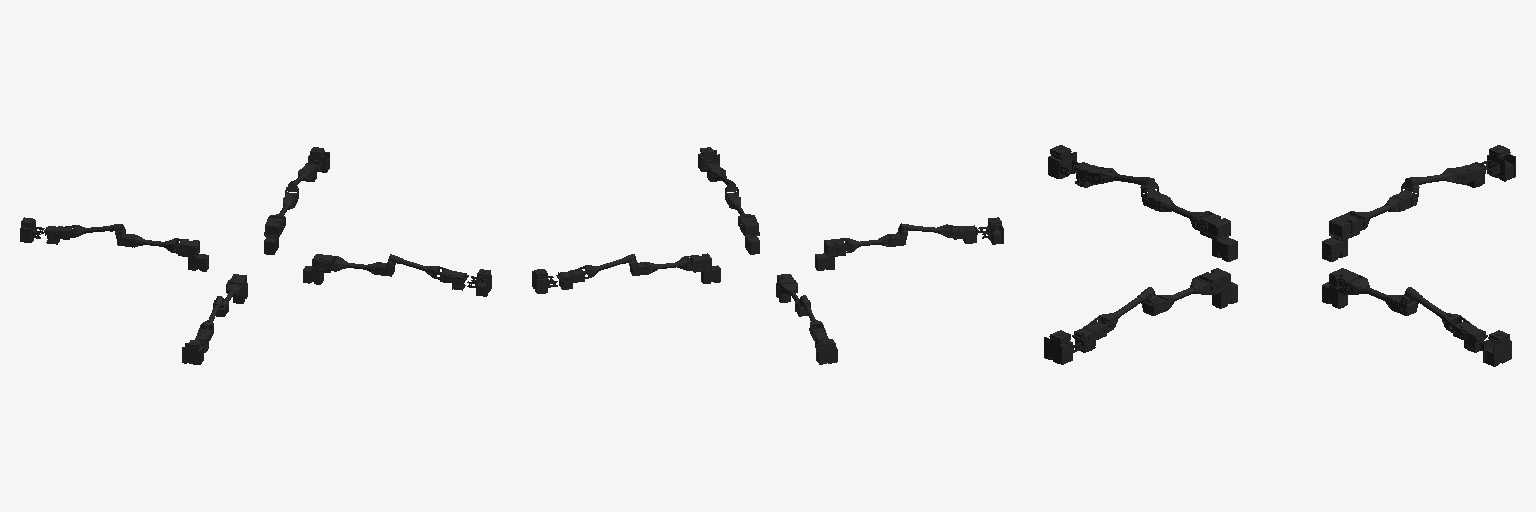
--- Render facts (derived) ---
The picture shows the robot from 3 angles, left to right: view 1: azimuth 30°, elevation 25°; view 2: azimuth 150°, elevation 25°; view 3: azimuth 270°, elevation 25°; orthographic projection.
Model LIMBERO with 37 links and 36 joints (24 revolute, 4 continuous, 8 fixed), rooted at base_link, posed every joint at zero.
Visible links, largest first — view 1: LH_femur, RF_femur, RF_tibia, LH_tibia; view 2: LF_femur, RH_femur, RH_tibia, LF_tibia; view 3: RF_femur, LF_femur, LF_driving_Link, RF_driving_Link, LH_driving_Link, LH_femur, RH_femur, LF_tibia, RF_tibia, LH_tibia, RH_tibia, RH_driving_Link (+2 smaller).
Link boxes in pixels (x1,y1,x2,y2): LH_femur: (117,233,182,253); RF_femur: (325,256,394,276); RF_tibia: (385,254,451,282); LH_tibia: (57,224,125,242); LF_femur: (630,256,699,275); RH_femur: (841,233,905,253); RH_tibia: (897,223,965,242); LF_tibia: (573,254,638,281); RF_femur: (1143,275,1219,315); LF_femur: (1340,275,1416,315); LF_driving_Link: (1479,330,1511,366); RF_driving_Link: (1044,330,1080,364); LH_driving_Link: (1480,145,1515,181); LH_femur: (1346,190,1416,232); RH_femur: (1143,190,1213,232); LF_tibia: (1400,287,1471,338); RF_tibia: (1088,287,1159,338); LH_tibia: (1400,167,1475,202); RH_tibia: (1084,167,1159,202); RH_driving_Link: (1048,145,1079,178).
Size in the robot's own frame: 1.11 by 1.11 by 0.1264 metres.
32 mesh visuals loaded from 10 distinct referenced files (8 binary STL); not drawn: 5 (reference not matched to a file when rendering).

The robot description file, URDF, robot "LIMBERO":
<?xml version="1.0" ?>
<!-- =================================================================================== -->
<!-- |    This document was autogenerated by xacro from LIMBERO.xacro                  | -->
<!-- |    EDITING THIS FILE BY HAND IS NOT RECOMMENDED                                 | -->
<!-- =================================================================================== -->
<robot name="LIMBERO">
  <gazebo>
    <!-- ros_control plugin -->
    <plugin filename="libgazebo_ros2_control.so" name="gazebo_ros2_control">
      <parameters>[local-path]/lbr_ws/install/lbr_description/share/lbr_description/config/lbr_controller_with_grieel.yaml</parameters>
    </plugin>
  </gazebo>
  <link name="base_link">
    <inertial>
      <origin rpy="0 0 0" xyz="0 0 -0.0030083"/>
      <mass value="3.1152"/>
      <inertia ixx="0.0036482" ixy="7.8081E-07" ixz="1.7521E-06" iyy="0.0062179" iyz="-1.4424E-06" izz="0.0034682"/>
    </inertial>
    <visual>
      <origin rpy="0 0 0" xyz="0 0 0"/>
      <geometry>
        <mesh filename="meshes/base.STL" scale="1.0 1.0 1.0"/>
      </geometry>
      <material name="">
        <color rgba="0.2 0.2 0.2 1"/>
      </material>
    </visual>
    <collision>
      <origin rpy="0 0 0" xyz="0 0 0"/>
      <geometry>
        <mesh filename="meshes/base.STL" scale="1.0 1.0 1.0"/>
      </geometry>
    </collision>
  </link>
  <gazebo reference="base_link">
    <material>Gazebo/Black</material>
    <visual>
      <material>
        <ambient>0.2 0.2 0.2 1</ambient>
        <diffuse>0.2 0.2 0.2 1</diffuse>
        <specular>0.01 0.01 0.01 1</specular>
        <emissive>0.01 0.01 0.01 1</emissive>
      </material>
    </visual>
  </gazebo>
  <joint name="LF_joint" type="fixed">
    <origin rpy="0 0 0.7853981633974483" xyz="0.14142135623730953 0.1414213562373095 0"/>
    <parent link="base_link"/>
    <child link="LF_limb_root"/>
  </joint>
  <link name="LF_limb_root">
    <inertial>
      <origin rpy="0 0 0" xyz="-0.015029 -7.7571E-11 -0.047318"/>
      <mass value="0.08459"/>
      <inertia ixx="2.1548E-05" ixy="-4.775E-14" ixz="-1.6188E-07" iyy="3.834E-05" iyz="-8.2973E-14" izz="3.1728E-05"/>
    </inertial>
    <visual>
      <origin rpy="0 0 0" xyz="0 0 0"/>
      <geometry>
        <mesh filename="meshes/limb_root.STL"/>
      </geometry>
      <material name="">
        <color rgba="0.2 0.2 0.2 1"/>
      </material>
    </visual>
    <collision>
      <origin rpy="0 0 0" xyz="0 0 0"/>
      <geometry>
        <mesh filename="meshes/limb_root.STL"/>
      </geometry>
    </collision>
  </link>
  <link name="LF_coxa">
    <inertial>
      <origin rpy="0 0 0" xyz="0.015938 0.00063302 -0.0015013"/>
      <mass value="0.09109"/>
      <inertia ixx="2.352E-05" ixy="-1.6188E-07" ixz="4.775E-14" iyy="3.3634E-05" iyz="8.2973E-14" izz="4.2122E-05"/>
    </inertial>
    <visual>
      <origin rpy="0 0 0" xyz="0 0 0"/>
      <geometry>
        <mesh filename="meshes/coxa.STL"/>
      </geometry>
      <material name="">
        <color rgba="0.2 0.2 0.2 1"/>
      </material>
    </visual>
    <collision>
      <origin rpy="0 0 0" xyz="0 0 0"/>
      <geometry>
        <mesh filename="meshes/coxa.STL"/>
      </geometry>
    </collision>
  </link>
  <joint name="LF_B2C" type="revolute">
    <origin rpy="0 0 0" xyz="0 0 0"/>
    <parent link="LF_limb_root"/>
    <child link="LF_coxa"/>
    <axis xyz="0 0 1"/>
    <limit effort="5" lower="-3.14" upper="3.14" velocity="5"/>
    <dynamics damping="0.1" friction="0.4"/>
  </joint>
  <link name="LF_femur">
    <inertial>
      <origin rpy="0 0 0" xyz="0.10083 0.00014739 -3.217E-08"/>
      <mass value="0.12821"/>
      <inertia ixx="3.7005E-05" ixy="-1.9987E-08" ixz="-3.8346E-12" iyy="2.9934E-05" iyz="2.5988E-11" izz="4.8164E-05"/>
    </inertial>
    <visual>
      <origin rpy="0 0 0" xyz="0 0 0"/>
      <geometry>
        <mesh filename="meshes/femur.STL"/>
      </geometry>
      <material name="">
        <color rgba="0.2 0.2 0.2 1"/>
      </material>
    </visual>
    <collision>
      <origin rpy="0 0 0" xyz="0 0 0"/>
      <geometry>
        <mesh filename="meshes/femur.STL"/>
      </geometry>
    </collision>
  </link>
  <joint name="LF_C2F" type="revolute">
    <origin rpy="0 0 0" xyz="0.031 0 0"/>
    <parent link="LF_coxa"/>
    <child link="LF_femur"/>
    <axis xyz="0 1 0"/>
    <limit effort="5" lower="-3.14" upper="3.14" velocity="5"/>
    <dynamics damping="0.1" friction="0.4"/>
  </joint>
  <link name="LF_tibia">
    <inertial>
      <origin rpy="0 0 0" xyz="0.10298 1.1638E-07 0.019231"/>
      <mass value="0.061841"/>
      <inertia ixx="1.5486E-05" ixy="4.7072E-09" ixz="2.5637E-06" iyy="2.1826E-05" iyz="2.414E-08" izz="2.8843E-05"/>
    </inertial>
    <visual>
      <origin rpy="0 0 0" xyz="0 0 0"/>
      <geometry>
        <mesh filename="meshes/tibia.STL"/>
      </geometry>
      <material name="">
        <color rgba="0.2 0.2 0.2 1"/>
      </material>
    </visual>
    <collision>
      <origin rpy="0 0 0" xyz="0 0 0"/>
      <geometry>
        <mesh filename="meshes/tibia.STL"/>
      </geometry>
    </collision>
  </link>
  <joint name="LF_F2T" type="revolute">
    <origin rpy="0 0 0" xyz="0.2 0 0"/>
    <parent link="LF_femur"/>
    <child link="LF_tibia"/>
    <axis xyz="0 1 0"/>
    <limit effort="5" lower="-3.14" upper="3.14" velocity="5"/>
    <dynamics damping="0.1" friction="0.4"/>
  </joint>
  <link name="LF_limb_end">
    <inertial>
      <origin rpy="0 0 0" xyz="-0.011645 0.00042918 -9.53E-12"/>
      <mass value="0.081999"/>
      <inertia ixx="1.3061E-05" ixy="-3.7211E-08" ixz="3.1094E-14" iyy="1.9634E-05" iyz="-3.9438E-17" izz="2.2308E-05"/>
    </inertial>
    <visual>
      <origin rpy="0 0 0" xyz="0 0 0"/>
      <geometry>
        <mesh filename="meshes/limb_end.STL"/>
      </geometry>
      <material name="">
        <color rgba="0.2 0.2 0.2 1"/>
      </material>
    </visual>
    <collision>
      <origin rpy="0 0 0" xyz="0 0 0"/>
      <geometry>
        <mesh filename="meshes/limb_end.STL"/>
      </geometry>
    </collision>
  </link>
  <joint name="LF_T2E" type="revolute">
    <origin rpy="0 0 0" xyz="0.2 0 0"/>
    <parent link="LF_tibia"/>
    <child link="LF_limb_end"/>
    <axis xyz="0 1 0"/>
    <limit effort="5" lower="-3.14" upper="3.14" velocity="5"/>
    <dynamics damping="0.1" friction="0.4"/>
  </joint>
  <joint name="LH_joint" type="fixed">
    <origin rpy="0 0 2.356194490192345" xyz="-0.1414213562373095 0.14142135623730953 0"/>
    <parent link="base_link"/>
    <child link="LH_limb_root"/>
  </joint>
  <link name="LH_limb_root">
    <inertial>
      <origin rpy="0 0 0" xyz="-0.015029 -7.7571E-11 -0.047318"/>
      <mass value="0.08459"/>
      <inertia ixx="2.1548E-05" ixy="-4.775E-14" ixz="-1.6188E-07" iyy="3.834E-05" iyz="-8.2973E-14" izz="3.1728E-05"/>
    </inertial>
    <visual>
      <origin rpy="0 0 0" xyz="0 0 0"/>
      <geometry>
        <mesh filename="meshes/limb_root.STL"/>
      </geometry>
      <material name="">
        <color rgba="0.2 0.2 0.2 1"/>
      </material>
    </visual>
    <collision>
      <origin rpy="0 0 0" xyz="0 0 0"/>
      <geometry>
        <mesh filename="meshes/limb_root.STL"/>
      </geometry>
    </collision>
  </link>
  <link name="LH_coxa">
    <inertial>
      <origin rpy="0 0 0" xyz="0.015938 0.00063302 -0.0015013"/>
      <mass value="0.09109"/>
      <inertia ixx="2.352E-05" ixy="-1.6188E-07" ixz="4.775E-14" iyy="3.3634E-05" iyz="8.2973E-14" izz="4.2122E-05"/>
    </inertial>
    <visual>
      <origin rpy="0 0 0" xyz="0 0 0"/>
      <geometry>
        <mesh filename="meshes/coxa.STL"/>
      </geometry>
      <material name="">
        <color rgba="0.2 0.2 0.2 1"/>
      </material>
    </visual>
    <collision>
      <origin rpy="0 0 0" xyz="0 0 0"/>
      <geometry>
        <mesh filename="meshes/coxa.STL"/>
      </geometry>
    </collision>
  </link>
  <joint name="LH_B2C" type="revolute">
    <origin rpy="0 0 0" xyz="0 0 0"/>
    <parent link="LH_limb_root"/>
    <child link="LH_coxa"/>
    <axis xyz="0 0 1"/>
    <limit effort="5" lower="-3.14" upper="3.14" velocity="5"/>
    <dynamics damping="0.1" friction="0.4"/>
  </joint>
  <link name="LH_femur">
    <inertial>
      <origin rpy="0 0 0" xyz="0.10083 0.00014739 -3.217E-08"/>
      <mass value="0.12821"/>
      <inertia ixx="3.7005E-05" ixy="-1.9987E-08" ixz="-3.8346E-12" iyy="2.9934E-05" iyz="2.5988E-11" izz="4.8164E-05"/>
    </inertial>
    <visual>
      <origin rpy="0 0 0" xyz="0 0 0"/>
      <geometry>
        <mesh filename="meshes/femur.STL"/>
      </geometry>
      <material name="">
        <color rgba="0.2 0.2 0.2 1"/>
      </material>
    </visual>
    <collision>
      <origin rpy="0 0 0" xyz="0 0 0"/>
      <geometry>
        <mesh filename="meshes/femur.STL"/>
      </geometry>
    </collision>
  </link>
  <joint name="LH_C2F" type="revolute">
    <origin rpy="0 0 0" xyz="0.031 0 0"/>
    <parent link="LH_coxa"/>
    <child link="LH_femur"/>
    <axis xyz="0 1 0"/>
    <limit effort="5" lower="-3.14" upper="3.14" velocity="5"/>
    <dynamics damping="0.1" friction="0.4"/>
  </joint>
  <link name="LH_tibia">
    <inertial>
      <origin rpy="0 0 0" xyz="0.10298 1.1638E-07 0.019231"/>
      <mass value="0.061841"/>
      <inertia ixx="1.5486E-05" ixy="4.7072E-09" ixz="2.5637E-06" iyy="2.1826E-05" iyz="2.414E-08" izz="2.8843E-05"/>
    </inertial>
    <visual>
      <origin rpy="0 0 0" xyz="0 0 0"/>
      <geometry>
        <mesh filename="meshes/tibia.STL"/>
      </geometry>
      <material name="">
        <color rgba="0.2 0.2 0.2 1"/>
      </material>
    </visual>
    <collision>
      <origin rpy="0 0 0" xyz="0 0 0"/>
      <geometry>
        <mesh filename="meshes/tibia.STL"/>
      </geometry>
    </collision>
  </link>
  <joint name="LH_F2T" type="revolute">
    <origin rpy="0 0 0" xyz="0.2 0 0"/>
    <parent link="LH_femur"/>
    <child link="LH_tibia"/>
    <axis xyz="0 1 0"/>
    <limit effort="5" lower="-3.14" upper="3.14" velocity="5"/>
    <dynamics damping="0.1" friction="0.4"/>
  </joint>
  <link name="LH_limb_end">
    <inertial>
      <origin rpy="0 0 0" xyz="-0.011645 0.00042918 -9.53E-12"/>
      <mass value="0.081999"/>
      <inertia ixx="1.3061E-05" ixy="-3.7211E-08" ixz="3.1094E-14" iyy="1.9634E-05" iyz="-3.9438E-17" izz="2.2308E-05"/>
    </inertial>
    <visual>
      <origin rpy="0 0 0" xyz="0 0 0"/>
      <geometry>
        <mesh filename="meshes/limb_end.STL"/>
      </geometry>
      <material name="">
        <color rgba="0.2 0.2 0.2 1"/>
      </material>
    </visual>
    <collision>
      <origin rpy="0 0 0" xyz="0 0 0"/>
      <geometry>
        <mesh filename="meshes/limb_end.STL"/>
      </geometry>
    </collision>
  </link>
  <joint name="LH_T2E" type="revolute">
    <origin rpy="0 0 0" xyz="0.2 0 0"/>
    <parent link="LH_tibia"/>
    <child link="LH_limb_end"/>
    <axis xyz="0 1 0"/>
    <limit effort="5" lower="-3.14" upper="3.14" velocity="5"/>
    <dynamics damping="0.1" friction="0.4"/>
  </joint>
  <joint name="RH_joint" type="fixed">
    <origin rpy="0 0 3.9269908169872414" xyz="-0.14142135623730953 -0.1414213562373095 0"/>
    <parent link="base_link"/>
    <child link="RH_limb_root"/>
  </joint>
  <link name="RH_limb_root">
    <inertial>
      <origin rpy="0 0 0" xyz="-0.015029 -7.7571E-11 -0.047318"/>
      <mass value="0.08459"/>
      <inertia ixx="2.1548E-05" ixy="-4.775E-14" ixz="-1.6188E-07" iyy="3.834E-05" iyz="-8.2973E-14" izz="3.1728E-05"/>
    </inertial>
    <visual>
      <origin rpy="0 0 0" xyz="0 0 0"/>
      <geometry>
        <mesh filename="meshes/limb_root.STL"/>
      </geometry>
      <material name="">
        <color rgba="0.2 0.2 0.2 1"/>
      </material>
    </visual>
    <collision>
      <origin rpy="0 0 0" xyz="0 0 0"/>
      <geometry>
        <mesh filename="meshes/limb_root.STL"/>
      </geometry>
    </collision>
  </link>
  <link name="RH_coxa">
    <inertial>
      <origin rpy="0 0 0" xyz="0.015938 0.00063302 -0.0015013"/>
      <mass value="0.09109"/>
      <inertia ixx="2.352E-05" ixy="-1.6188E-07" ixz="4.775E-14" iyy="3.3634E-05" iyz="8.2973E-14" izz="4.2122E-05"/>
    </inertial>
    <visual>
      <origin rpy="0 0 0" xyz="0 0 0"/>
      <geometry>
        <mesh filename="meshes/coxa.STL"/>
      </geometry>
      <material name="">
        <color rgba="0.2 0.2 0.2 1"/>
      </material>
    </visual>
    <collision>
      <origin rpy="0 0 0" xyz="0 0 0"/>
      <geometry>
        <mesh filename="meshes/coxa.STL"/>
      </geometry>
    </collision>
  </link>
  <joint name="RH_B2C" type="revolute">
    <origin rpy="0 0 0" xyz="0 0 0"/>
    <parent link="RH_limb_root"/>
    <child link="RH_coxa"/>
    <axis xyz="0 0 1"/>
    <limit effort="5" lower="-3.14" upper="3.14" velocity="5"/>
    <dynamics damping="0.1" friction="0.4"/>
  </joint>
  <link name="RH_femur">
    <inertial>
      <origin rpy="0 0 0" xyz="0.10083 0.00014739 -3.217E-08"/>
      <mass value="0.12821"/>
      <inertia ixx="3.7005E-05" ixy="-1.9987E-08" ixz="-3.8346E-12" iyy="2.9934E-05" iyz="2.5988E-11" izz="4.8164E-05"/>
    </inertial>
    <visual>
      <origin rpy="0 0 0" xyz="0 0 0"/>
      <geometry>
        <mesh filename="meshes/femur.STL"/>
      </geometry>
      <material name="">
        <color rgba="0.2 0.2 0.2 1"/>
      </material>
    </visual>
    <collision>
      <origin rpy="0 0 0" xyz="0 0 0"/>
      <geometry>
        <mesh filename="meshes/femur.STL"/>
      </geometry>
    </collision>
  </link>
  <joint name="RH_C2F" type="revolute">
    <origin rpy="0 0 0" xyz="0.031 0 0"/>
    <parent link="RH_coxa"/>
    <child link="RH_femur"/>
    <axis xyz="0 1 0"/>
    <limit effort="5" lower="-3.14" upper="3.14" velocity="5"/>
    <dynamics damping="0.1" friction="0.4"/>
  </joint>
  <link name="RH_tibia">
    <inertial>
      <origin rpy="0 0 0" xyz="0.10298 1.1638E-07 0.019231"/>
      <mass value="0.061841"/>
      <inertia ixx="1.5486E-05" ixy="4.7072E-09" ixz="2.5637E-06" iyy="2.1826E-05" iyz="2.414E-08" izz="2.8843E-05"/>
    </inertial>
    <visual>
      <origin rpy="0 0 0" xyz="0 0 0"/>
      <geometry>
        <mesh filename="meshes/tibia.STL"/>
      </geometry>
      <material name="">
        <color rgba="0.2 0.2 0.2 1"/>
      </material>
    </visual>
    <collision>
      <origin rpy="0 0 0" xyz="0 0 0"/>
      <geometry>
        <mesh filename="meshes/tibia.STL"/>
      </geometry>
    </collision>
  </link>
  <joint name="RH_F2T" type="revolute">
    <origin rpy="0 0 0" xyz="0.2 0 0"/>
    <parent link="RH_femur"/>
    <child link="RH_tibia"/>
    <axis xyz="0 1 0"/>
    <limit effort="5" lower="-3.14" upper="3.14" velocity="5"/>
    <dynamics damping="0.1" friction="0.4"/>
  </joint>
  <link name="RH_limb_end">
    <inertial>
      <origin rpy="0 0 0" xyz="-0.011645 0.00042918 -9.53E-12"/>
      <mass value="0.081999"/>
      <inertia ixx="1.3061E-05" ixy="-3.7211E-08" ixz="3.1094E-14" iyy="1.9634E-05" iyz="-3.9438E-17" izz="2.2308E-05"/>
    </inertial>
    <visual>
      <origin rpy="0 0 0" xyz="0 0 0"/>
      <geometry>
        <mesh filename="meshes/limb_end.STL"/>
      </geometry>
      <material name="">
        <color rgba="0.2 0.2 0.2 1"/>
      </material>
    </visual>
    <collision>
      <origin rpy="0 0 0" xyz="0 0 0"/>
      <geometry>
        <mesh filename="meshes/limb_end.STL"/>
      </geometry>
    </collision>
  </link>
  <joint name="RH_T2E" type="revolute">
    <origin rpy="0 0 0" xyz="0.2 0 0"/>
    <parent link="RH_tibia"/>
    <child link="RH_limb_end"/>
    <axis xyz="0 1 0"/>
    <limit effort="5" lower="-3.14" upper="3.14" velocity="5"/>
    <dynamics damping="0.1" friction="0.4"/>
  </joint>
  <joint name="RF_joint" type="fixed">
    <origin rpy="0 0 5.497787143782138" xyz="0.14142135623730948 -0.14142135623730953 0"/>
    <parent link="base_link"/>
    <child link="RF_limb_root"/>
  </joint>
  <link name="RF_limb_root">
    <inertial>
      <origin rpy="0 0 0" xyz="-0.015029 -7.7571E-11 -0.047318"/>
      <mass value="0.08459"/>
      <inertia ixx="2.1548E-05" ixy="-4.775E-14" ixz="-1.6188E-07" iyy="3.834E-05" iyz="-8.2973E-14" izz="3.1728E-05"/>
    </inertial>
    <visual>
      <origin rpy="0 0 0" xyz="0 0 0"/>
      <geometry>
        <mesh filename="meshes/limb_root.STL"/>
      </geometry>
      <material name="">
        <color rgba="0.2 0.2 0.2 1"/>
      </material>
    </visual>
    <collision>
      <origin rpy="0 0 0" xyz="0 0 0"/>
      <geometry>
        <mesh filename="meshes/limb_root.STL"/>
      </geometry>
    </collision>
  </link>
  <link name="RF_coxa">
    <inertial>
      <origin rpy="0 0 0" xyz="0.015938 0.00063302 -0.0015013"/>
      <mass value="0.09109"/>
      <inertia ixx="2.352E-05" ixy="-1.6188E-07" ixz="4.775E-14" iyy="3.3634E-05" iyz="8.2973E-14" izz="4.2122E-05"/>
    </inertial>
    <visual>
      <origin rpy="0 0 0" xyz="0 0 0"/>
      <geometry>
        <mesh filename="meshes/coxa.STL"/>
      </geometry>
      <material name="">
        <color rgba="0.2 0.2 0.2 1"/>
      </material>
    </visual>
    <collision>
      <origin rpy="0 0 0" xyz="0 0 0"/>
      <geometry>
        <mesh filename="meshes/coxa.STL"/>
      </geometry>
    </collision>
  </link>
  <joint name="RF_B2C" type="revolute">
    <origin rpy="0 0 0" xyz="0 0 0"/>
    <parent link="RF_limb_root"/>
    <child link="RF_coxa"/>
    <axis xyz="0 0 1"/>
    <limit effort="5" lower="-3.14" upper="3.14" velocity="5"/>
    <dynamics damping="0.1" friction="0.4"/>
  </joint>
  <link name="RF_femur">
    <inertial>
      <origin rpy="0 0 0" xyz="0.10083 0.00014739 -3.217E-08"/>
      <mass value="0.12821"/>
      <inertia ixx="3.7005E-05" ixy="-1.9987E-08" ixz="-3.8346E-12" iyy="2.9934E-05" iyz="2.5988E-11" izz="4.8164E-05"/>
    </inertial>
    <visual>
      <origin rpy="0 0 0" xyz="0 0 0"/>
      <geometry>
        <mesh filename="meshes/femur.STL"/>
      </geometry>
      <material name="">
        <color rgba="0.2 0.2 0.2 1"/>
      </material>
    </visual>
    <collision>
      <origin rpy="0 0 0" xyz="0 0 0"/>
      <geometry>
        <mesh filename="meshes/femur.STL"/>
      </geometry>
    </collision>
  </link>
  <joint name="RF_C2F" type="revolute">
    <origin rpy="0 0 0" xyz="0.031 0 0"/>
    <parent link="RF_coxa"/>
    <child link="RF_femur"/>
    <axis xyz="0 1 0"/>
    <limit effort="5" lower="-3.14" upper="3.14" velocity="5"/>
    <dynamics damping="0.1" friction="0.4"/>
  </joint>
  <link name="RF_tibia">
    <inertial>
      <origin rpy="0 0 0" xyz="0.10298 1.1638E-07 0.019231"/>
      <mass value="0.061841"/>
      <inertia ixx="1.5486E-05" ixy="4.7072E-09" ixz="2.5637E-06" iyy="2.1826E-05" iyz="2.414E-08" izz="2.8843E-05"/>
    </inertial>
    <visual>
      <origin rpy="0 0 0" xyz="0 0 0"/>
      <geometry>
        <mesh filename="meshes/tibia.STL"/>
      </geometry>
      <material name="">
        <color rgba="0.2 0.2 0.2 1"/>
      </material>
    </visual>
    <collision>
      <origin rpy="0 0 0" xyz="0 0 0"/>
      <geometry>
        <mesh filename="meshes/tibia.STL"/>
      </geometry>
    </collision>
  </link>
  <joint name="RF_F2T" type="revolute">
    <origin rpy="0 0 0" xyz="0.2 0 0"/>
    <parent link="RF_femur"/>
    <child link="RF_tibia"/>
    <axis xyz="0 1 0"/>
    <limit effort="5" lower="-3.14" upper="3.14" velocity="5"/>
    <dynamics damping="0.1" friction="0.4"/>
  </joint>
  <link name="RF_limb_end">
    <inertial>
      <origin rpy="0 0 0" xyz="-0.011645 0.00042918 -9.53E-12"/>
      <mass value="0.081999"/>
      <inertia ixx="1.3061E-05" ixy="-3.7211E-08" ixz="3.1094E-14" iyy="1.9634E-05" iyz="-3.9438E-17" izz="2.2308E-05"/>
    </inertial>
    <visual>
      <origin rpy="0 0 0" xyz="0 0 0"/>
      <geometry>
        <mesh filename="meshes/limb_end.STL"/>
      </geometry>
      <material name="">
        <color rgba="0.2 0.2 0.2 1"/>
      </material>
    </visual>
    <collision>
      <origin rpy="0 0 0" xyz="0 0 0"/>
      <geometry>
        <mesh filename="meshes/limb_end.STL"/>
      </geometry>
    </collision>
  </link>
  <joint name="RF_T2E" type="revolute">
    <origin rpy="0 0 0" xyz="0.2 0 0"/>
    <parent link="RF_tibia"/>
    <child link="RF_limb_end"/>
    <axis xyz="0 1 0"/>
    <limit effort="5" lower="-3.14" upper="3.14" velocity="5"/>
    <dynamics damping="0.1" friction="0.4"/>
  </joint>
  <joint name="LF_E2grieel" type="fixed">
    <origin rpy="0 0 0" xyz="0 0 0"/>
    <parent link="LF_limb_end"/>
    <child link="LF_wristH_Link"/>
    <!-- <axis
        xyz="0 1 0" />
      <limit
        lower="0"
        upper="0"
        effort="5"
        velocity="0" /> -->
  </joint>
  <link name="LF_wristH_Link">
    <inertial>
      <origin rpy="0 0 0" xyz="-0.00522566844956051 -1.34546419111017E-16 -2.50808033407652E-17"/>
      <mass value="0.00988435774287047"/>
      <inertia ixx="2.66612744764484E-06" ixy="-1.34713298418369E-20" ixz="3.60089715947716E-21" iyy="4.57142030143529E-06" iyz="4.76175575235816E-19" izz="2.9211242466353E-06"/>
    </inertial>
    <visual>
      <origin rpy="0 0 0" xyz="0 0 0"/>
      <geometry>
        <mesh filename="meshes/Grieel_wheel_mode/wristH_Link.STL"/>
      </geometry>
      <material name="">
        <color rgba="0.2 0.2 0.2 1"/>
      </material>
    </visual>
    <collision>
      <origin rpy="0 0 0" xyz="0 0 0"/>
      <geometry>
        <mesh filename="meshes/Grieel_wheel_mode/wristH_Link.STL"/>
      </geometry>
    </collision>
  </link>
  <link name="LF_wristV_Link">
    <inertial>
      <origin rpy="0 0 0" xyz="0.0195120824576142 -0.000473380302575917 -0.0113217579335182"/>
      <mass value="0.102059813857681"/>
      <inertia ixx="2.51506057023328E-05" ixy="5.87568310882065E-07" ixz="5.02138918676071E-10" iyy="2.47069145197251E-05" iyz="-1.31422853272996E-09" izz="1.79824315026287E-05"/>
    </inertial>
    <visual>
      <origin rpy="-3.14159265358 0 0" xyz="-0.014255 0 0"/>
      <geometry>
        <mesh filename="meshes/Grieel_wheel_mode/wristV_Link.STL"/>
      </geometry>
      <material name="">
        <color rgba="0.2 0.2 0.2 1"/>
      </material>
    </visual>
    <collision>
      <origin rpy="0 0 0" xyz="-0.014255 0 0"/>
      <geometry>
        <mesh filename="meshes/Grieel_wheel_mode/wristV_Link.STL"/>
      </geometry>
    </collision>
  </link>
  <joint name="LF_wristH" type="revolute">
    <origin rpy="0 0 0" xyz="0.014255 0 0"/>
    <parent link="LF_wristH_Link"/>
    <child link="LF_wristV_Link"/>
    <axis xyz="1 0 0"/>
    <limit effort="5" lower="-3.14159265358" upper="3.14159265358" velocity="5"/>
    <dynamics damping="0.1" friction="0.4"/>
  </joint>
  <link name="LF_driving_Link">
    <inertial>
      <origin rpy="0 0 0" xyz="0.0448909989381638 -0.00431415254067207 5.44808063318511E-05"/>
      <mass value="0.132659951309175"/>
      <inertia ixx="4.32511275712107E-05" ixy="-4.1427317823442E-09" ixz="7.08867361092382E-09" iyy="3.4691959624158E-05" iyz="-1.0616454627913E-08" izz="3.76031003493131E-05"/>
    </inertial>
    <visual>
      <origin rpy="3.14159265358 -1.5708 0" xyz="0.024002 0 -0.03325 "/>
      <geometry>
        <mesh filename="meshes/Grieel_wheel_mode/driving_Link.STL"/>
      </geometry>
      <material name="">
        <color rgba="0.2 0.2 0.2 1"/>
      </material>
    </visual>
    <collision>
      <origin rpy="0 0 0" xyz="-0.03325 0 0.024002"/>
      <geometry>
        <mesh filename="meshes/Grieel_wheel_mode/driving_Link.STL"/>
      </geometry>
    </collision>
  </link>
  <joint name="LF_wristV" type="revolute">
    <origin rpy="0 0 0" xyz="0.018995 0 0.024002"/>
    <parent link="LF_wristV_Link"/>
    <child link="LF_driving_Link"/>
    <axis xyz="0 1 0"/>
    <limit effort="5" lower="-2.35619449019" upper="1.5708" velocity="5"/>
    <dynamics damping="0.1" friction="0.4"/>
  </joint>
  <link name="LF_wheel_Link">
    <inertial>
      <origin rpy="0 0 0" xyz="0.00222516909085785 0.00371161518941796 0.0864468548098098"/>
      <mass value="0.415840945785028"/>
      <inertia ixx="8.46005758272478E-05" ixy="5.92848495177423E-08" ixz="-1.25700028998783E-06" iyy="6.34434076414387E-05" iyz="-5.56154912625676E-07" izz="9.63386112584046E-05"/>
    </inertial>
    <visual>
      <origin rpy="0 -1.5708 3.14159265358" xyz=" 0.010898 0 -0.079017"/>
      <geometry>
        <mesh filename="meshes/Grieel_wheel_mode/wheel_Link.STL"/>
      </geometry>
      <material name="">
        <color rgba="0.2 0.2 0.2 1"/>
      </material>
    </visual>
    <collision name="LF_wheel_Link_collision">
      <origin rpy="0 0 0" xyz="-0.079017 0 0.010898"/>
      <geometry>
        <mesh filename="meshes/Grieel_wheel_mode/wheel_Link.STL"/>
      </geometry>
    </collision>
    <!-- <collision name="${prefix}_wheel_Link_collision">
      <origin
        xyz="0 -0.118 0"
        rpy="${pi/2} 0 0" />
      <geometry>
        <cylinder length="0.04" radius="0.078"/>
      </geometry>
    </collision> -->
  </link>
  <joint name="LF_driving" type="continuous">
    <origin rpy="0 0 0" xyz="0.013104 0 0.045762"/>
    <parent link="LF_driving_Link"/>
    <child link="LF_wheel_Link"/>
    <axis xyz="-1 0 0"/>
    <dynamics damping="0.1" friction="0.4"/>
  </joint>
  <!-- Gazebo plugin for contact sensor, collision name like that because of parsing errors in the urdf  -->
  <gazebo reference="LF_wheel_Link">
    <sensor name="LF_gripper_bumper_sensor" type="contact">
      <always_on>true</always_on>
      <update_rate>100</update_rate>
      <contact>
        <collision>LF_wheel_Link_collision_collision</collision>
      </contact>
      <plugin filename="libgazebo_ros_bumper.so" name="LF_gripper_bumper">
        <ros>
          <namespace>LF</namespace>
        </ros>
        <frame_name>LF_wheel_link</frame_name>
      </plugin>
    </sensor>
  </gazebo>
  <joint name="LH_E2grieel" type="fixed">
    <origin rpy="0 0 0" xyz="0 0 0"/>
    <parent link="LH_limb_end"/>
    <child link="LH_wristH_Link"/>
    <!-- <axis
        xyz="0 1 0" />
      <limit
        lower="0"
        upper="0"
        effort="5"
        velocity="0" /> -->
  </joint>
  <link name="LH_wristH_Link">
    <inertial>
      <origin rpy="0 0 0" xyz="-0.00522566844956051 -1.34546419111017E-16 -2.50808033407652E-17"/>
      <mass value="0.00988435774287047"/>
      <inertia ixx="2.66612744764484E-06" ixy="-1.34713298418369E-20" ixz="3.60089715947716E-21" iyy="4.57142030143529E-06" iyz="4.76175575235816E-19" izz="2.9211242466353E-06"/>
    </inertial>
    <visual>
      <origin rpy="0 0 0" xyz="0 0 0"/>
      <geometry>
        <mesh filename="meshes/Grieel_wheel_mode/wristH_Link.STL"/>
      </geometry>
      <material name="">
        <color rgba="0.2 0.2 0.2 1"/>
      </material>
    </visual>
    <collision>
      <origin rpy="0 0 0" xyz="0 0 0"/>
      <geometry>
        <mesh filename="meshes/Grieel_wheel_mode/wristH_Link.STL"/>
      </geometry>
    </collision>
  </link>
  <link name="LH_wristV_Link">
    <inertial>
      <origin rpy="0 0 0" xyz="0.0195120824576142 -0.000473380302575917 -0.0113217579335182"/>
      <mass value="0.102059813857681"/>
      <inertia ixx="2.51506057023328E-05" ixy="5.87568310882065E-07" ixz="5.02138918676071E-10" iyy="2.47069145197251E-05" iyz="-1.31422853272996E-09" izz="1.79824315026287E-05"/>
    </inertial>
    <visual>
      <origin rpy="-3.14159265358 0 0" xyz="-0.014255 0 0"/>
      <geometry>
        <mesh filename="meshes/Grieel_wheel_mode/wristV_Link.STL"/>
      </geometry>
      <material name="">
        <color rgba="0.2 0.2 0.2 1"/>
      </material>
    </visual>
    <collision>
      <origin rpy="0 0 0" xyz="-0.014255 0 0"/>
      <geometry>
        <mesh filename="meshes/Grieel_wheel_mode/wristV_Link.STL"/>
      </geometry>
    </collision>
  </link>
  <joint name="LH_wristH" type="revolute">
    <origin rpy="0 0 0" xyz="0.014255 0 0"/>
    <parent link="LH_wristH_Link"/>
    <child link="LH_wristV_Link"/>
    <axis xyz="1 0 0"/>
    <limit effort="5" lower="-3.14159265358" upper="3.14159265358" velocity="5"/>
    <dynamics damping="0.1" friction="0.4"/>
  </joint>
  <link name="LH_driving_Link">
    <inertial>
      <origin rpy="0 0 0" xyz="0.0448909989381638 -0.00431415254067207 5.44808063318511E-05"/>
      <mass value="0.132659951309175"/>
      <inertia ixx="4.32511275712107E-05" ixy="-4.1427317823442E-09" ixz="7.08867361092382E-09" iyy="3.4691959624158E-05" iyz="-1.0616454627913E-08" izz="3.76031003493131E-05"/>
    </inertial>
    <visual>
      <origin rpy="3.14159265358 -1.5708 0" xyz="0.024002 0 -0.03325 "/>
      <geometry>
        <mesh filename="meshes/Grieel_wheel_mode/driving_Link.STL"/>
      </geometry>
      <material name="">
        <color rgba="0.2 0.2 0.2 1"/>
      </material>
    </visual>
    <collision>
      <origin rpy="0 0 0" xyz="-0.03325 0 0.024002"/>
      <geometry>
        <mesh filename="meshes/Grieel_wheel_mode/driving_Link.STL"/>
      </geometry>
    </collision>
  </link>
  <joint name="LH_wristV" type="revolute">
    <origin rpy="0 0 0" xyz="0.018995 0 0.024002"/>
    <parent link="LH_wristV_Link"/>
    <child link="LH_driving_Link"/>
    <axis xyz="0 1 0"/>
    <limit effort="5" lower="-2.35619449019" upper="1.5708" velocity="5"/>
    <dynamics damping="0.1" friction="0.4"/>
  </joint>
  <link name="LH_wheel_Link">
    <inertial>
      <origin rpy="0 0 0" xyz="0.00222516909085785 0.00371161518941796 0.0864468548098098"/>
      <mass value="0.415840945785028"/>
      <inertia ixx="8.46005758272478E-05" ixy="5.92848495177423E-08" ixz="-1.25700028998783E-06" iyy="6.34434076414387E-05" iyz="-5.56154912625676E-07" izz="9.63386112584046E-05"/>
    </inertial>
    <visual>
      <origin rpy="0 -1.5708 3.14159265358" xyz=" 0.010898 0 -0.079017"/>
      <geometry>
        <mesh filename="meshes/Grieel_wheel_mode/wheel_Link.STL"/>
      </geometry>
      <material name="">
        <color rgba="0.2 0.2 0.2 1"/>
      </material>
    </visual>
    <collision name="LH_wheel_Link_collision">
      <origin rpy="0 0 0" xyz="-0.079017 0 0.010898"/>
      <geometry>
        <mesh filename="meshes/Grieel_wheel_mode/wheel_Link.STL"/>
      </geometry>
    </collision>
    <!-- <collision name="${prefix}_wheel_Link_collision">
      <origin
        xyz="0 -0.118 0"
        rpy="${pi/2} 0 0" />
      <geometry>
        <cylinder length="0.04" radius="0.078"/>
      </geometry>
    </collision> -->
  </link>
  <joint name="LH_driving" type="continuous">
    <origin rpy="0 0 0" xyz="0.013104 0 0.045762"/>
    <parent link="LH_driving_Link"/>
    <child link="LH_wheel_Link"/>
    <axis xyz="-1 0 0"/>
    <dynamics damping="0.1" friction="0.4"/>
  </joint>
  <!-- Gazebo plugin for contact sensor, collision name like that because of parsing errors in the urdf  -->
  <gazebo reference="LH_wheel_Link">
    <sensor name="LH_gripper_bumper_sensor" type="contact">
      <always_on>true</always_on>
      <update_rate>100</update_rate>
      <contact>
        <collision>LH_wheel_Link_collision_collision</collision>
      </contact>
      <plugin filename="libgazebo_ros_bumper.so" name="LH_gripper_bumper">
        <ros>
          <namespace>LH</namespace>
        </ros>
        <frame_name>LH_wheel_link</frame_name>
      </plugin>
    </sensor>
  </gazebo>
  <joint name="RH_E2grieel" type="fixed">
    <origin rpy="0 0 0" xyz="0 0 0"/>
    <parent link="RH_limb_end"/>
    <child link="RH_wristH_Link"/>
    <!-- <axis
        xyz="0 1 0" />
      <limit
        lower="0"
        upper="0"
        effort="5"
        velocity="0" /> -->
  </joint>
  <link name="RH_wristH_Link">
    <inertial>
      <origin rpy="0 0 0" xyz="-0.00522566844956051 -1.34546419111017E-16 -2.50808033407652E-17"/>
      <mass value="0.00988435774287047"/>
      <inertia ixx="2.66612744764484E-06" ixy="-1.34713298418369E-20" ixz="3.60089715947716E-21" iyy="4.57142030143529E-06" iyz="4.76175575235816E-19" izz="2.9211242466353E-06"/>
    </inertial>
    <visual>
      <origin rpy="0 0 0" xyz="0 0 0"/>
      <geometry>
        <mesh filename="meshes/Grieel_wheel_mode/wristH_Link.STL"/>
      </geometry>
      <material name="">
        <color rgba="0.2 0.2 0.2 1"/>
      </material>
    </visual>
    <collision>
      <origin rpy="0 0 0" xyz="0 0 0"/>
      <geometry>
        <mesh filename="meshes/Grieel_wheel_mode/wristH_Link.STL"/>
      </geometry>
    </collision>
  </link>
  <link name="RH_wristV_Link">
    <inertial>
      <origin rpy="0 0 0" xyz="0.0195120824576142 -0.000473380302575917 -0.0113217579335182"/>
      <mass value="0.102059813857681"/>
      <inertia ixx="2.51506057023328E-05" ixy="5.87568310882065E-07" ixz="5.02138918676071E-10" iyy="2.47069145197251E-05" iyz="-1.31422853272996E-09" izz="1.79824315026287E-05"/>
    </inertial>
    <visual>
      <origin rpy="-3.14159265358 0 0" xyz="-0.014255 0 0"/>
      <geometry>
        <mesh filename="meshes/Grieel_wheel_mode/wristV_Link.STL"/>
      </geometry>
      <material name="">
        <color rgba="0.2 0.2 0.2 1"/>
      </material>
    </visual>
    <collision>
      <origin rpy="0 0 0" xyz="-0.014255 0 0"/>
      <geometry>
        <mesh filename="meshes/Grieel_wheel_mode/wristV_Link.STL"/>
      </geometry>
    </collision>
  </link>
  <joint name="RH_wristH" type="revolute">
    <origin rpy="0 0 0" xyz="0.014255 0 0"/>
    <parent link="RH_wristH_Link"/>
    <child link="RH_wristV_Link"/>
    <axis xyz="1 0 0"/>
    <limit effort="5" lower="-3.14159265358" upper="3.14159265358" velocity="5"/>
    <dynamics damping="0.1" friction="0.4"/>
  </joint>
  <link name="RH_driving_Link">
    <inertial>
      <origin rpy="0 0 0" xyz="0.0448909989381638 -0.00431415254067207 5.44808063318511E-05"/>
      <mass value="0.132659951309175"/>
      <inertia ixx="4.32511275712107E-05" ixy="-4.1427317823442E-09" ixz="7.08867361092382E-09" iyy="3.4691959624158E-05" iyz="-1.0616454627913E-08" izz="3.76031003493131E-05"/>
    </inertial>
    <visual>
      <origin rpy="3.14159265358 -1.5708 0" xyz="0.024002 0 -0.03325 "/>
      <geometry>
        <mesh filename="meshes/Grieel_wheel_mode/driving_Link.STL"/>
      </geometry>
      <material name="">
        <color rgba="0.2 0.2 0.2 1"/>
      </material>
    </visual>
    <collision>
      <origin rpy="0 0 0" xyz="-0.03325 0 0.024002"/>
      <geometry>
        <mesh filename="meshes/Grieel_wheel_mode/driving_Link.STL"/>
      </geometry>
    </collision>
  </link>
  <joint name="RH_wristV" type="revolute">
    <origin rpy="0 0 0" xyz="0.018995 0 0.024002"/>
    <parent link="RH_wristV_Link"/>
    <child link="RH_driving_Link"/>
    <axis xyz="0 1 0"/>
    <limit effort="5" lower="-2.35619449019" upper="1.5708" velocity="5"/>
    <dynamics damping="0.1" friction="0.4"/>
  </joint>
  <link name="RH_wheel_Link">
    <inertial>
      <origin rpy="0 0 0" xyz="0.00222516909085785 0.00371161518941796 0.0864468548098098"/>
      <mass value="0.415840945785028"/>
      <inertia ixx="8.46005758272478E-05" ixy="5.92848495177423E-08" ixz="-1.25700028998783E-06" iyy="6.34434076414387E-05" iyz="-5.56154912625676E-07" izz="9.63386112584046E-05"/>
    </inertial>
    <visual>
      <origin rpy="0 -1.5708 3.14159265358" xyz=" 0.010898 0 -0.079017"/>
      <geometry>
        <mesh filename="meshes/Grieel_wheel_mode/wheel_Link.STL"/>
      </geometry>
      <material name="">
        <color rgba="0.2 0.2 0.2 1"/>
      </material>
    </visual>
    <collision name="RH_wheel_Link_collision">
      <origin rpy="0 0 0" xyz="-0.079017 0 0.010898"/>
      <geometry>
        <mesh filename="meshes/Grieel_wheel_mode/wheel_Link.STL"/>
      </geometry>
    </collision>
    <!-- <collision name="${prefix}_wheel_Link_collision">
      <origin
        xyz="0 -0.118 0"
        rpy="${pi/2} 0 0" />
      <geometry>
        <cylinder length="0.04" radius="0.078"/>
      </geometry>
    </collision> -->
  </link>
  <joint name="RH_driving" type="continuous">
    <origin rpy="0 0 0" xyz="0.013104 0 0.045762"/>
    <parent link="RH_driving_Link"/>
    <child link="RH_wheel_Link"/>
    <axis xyz="-1 0 0"/>
    <dynamics damping="0.1" friction="0.4"/>
  </joint>
  <!-- Gazebo plugin for contact sensor, collision name like that because of parsing errors in the urdf  -->
  <gazebo reference="RH_wheel_Link">
    <sensor name="RH_gripper_bumper_sensor" type="contact">
      <always_on>true</always_on>
      <update_rate>100</update_rate>
      <contact>
        <collision>RH_wheel_Link_collision_collision</collision>
      </contact>
      <plugin filename="libgazebo_ros_bumper.so" name="RH_gripper_bumper">
        <ros>
          <namespace>RH</namespace>
        </ros>
        <frame_name>RH_wheel_link</frame_name>
      </plugin>
    </sensor>
  </gazebo>
  <joint name="RF_E2grieel" type="fixed">
    <origin rpy="0 0 0" xyz="0 0 0"/>
    <parent link="RF_limb_end"/>
    <child link="RF_wristH_Link"/>
    <!-- <axis
        xyz="0 1 0" />
      <limit
        lower="0"
        upper="0"
        effort="5"
        velocity="0" /> -->
  </joint>
  <link name="RF_wristH_Link">
    <inertial>
      <origin rpy="0 0 0" xyz="-0.00522566844956051 -1.34546419111017E-16 -2.50808033407652E-17"/>
      <mass value="0.00988435774287047"/>
      <inertia ixx="2.66612744764484E-06" ixy="-1.34713298418369E-20" ixz="3.60089715947716E-21" iyy="4.57142030143529E-06" iyz="4.76175575235816E-19" izz="2.9211242466353E-06"/>
    </inertial>
    <visual>
      <origin rpy="0 0 0" xyz="0 0 0"/>
      <geometry>
        <mesh filename="meshes/Grieel_wheel_mode/wristH_Link.STL"/>
      </geometry>
      <material name="">
        <color rgba="0.2 0.2 0.2 1"/>
      </material>
    </visual>
    <collision>
      <origin rpy="0 0 0" xyz="0 0 0"/>
      <geometry>
        <mesh filename="meshes/Grieel_wheel_mode/wristH_Link.STL"/>
      </geometry>
    </collision>
  </link>
  <link name="RF_wristV_Link">
    <inertial>
      <origin rpy="0 0 0" xyz="0.0195120824576142 -0.000473380302575917 -0.0113217579335182"/>
      <mass value="0.102059813857681"/>
      <inertia ixx="2.51506057023328E-05" ixy="5.87568310882065E-07" ixz="5.02138918676071E-10" iyy="2.47069145197251E-05" iyz="-1.31422853272996E-09" izz="1.79824315026287E-05"/>
    </inertial>
    <visual>
      <origin rpy="-3.14159265358 0 0" xyz="-0.014255 0 0"/>
      <geometry>
        <mesh filename="meshes/Grieel_wheel_mode/wristV_Link.STL"/>
      </geometry>
      <material name="">
        <color rgba="0.2 0.2 0.2 1"/>
      </material>
    </visual>
    <collision>
      <origin rpy="0 0 0" xyz="-0.014255 0 0"/>
      <geometry>
        <mesh filename="meshes/Grieel_wheel_mode/wristV_Link.STL"/>
      </geometry>
    </collision>
  </link>
  <joint name="RF_wristH" type="revolute">
    <origin rpy="0 0 0" xyz="0.014255 0 0"/>
    <parent link="RF_wristH_Link"/>
    <child link="RF_wristV_Link"/>
    <axis xyz="1 0 0"/>
    <limit effort="5" lower="-3.14159265358" upper="3.14159265358" velocity="5"/>
    <dynamics damping="0.1" friction="0.4"/>
  </joint>
  <link name="RF_driving_Link">
    <inertial>
      <origin rpy="0 0 0" xyz="0.0448909989381638 -0.00431415254067207 5.44808063318511E-05"/>
      <mass value="0.132659951309175"/>
      <inertia ixx="4.32511275712107E-05" ixy="-4.1427317823442E-09" ixz="7.08867361092382E-09" iyy="3.4691959624158E-05" iyz="-1.0616454627913E-08" izz="3.76031003493131E-05"/>
    </inertial>
    <visual>
      <origin rpy="3.14159265358 -1.5708 0" xyz="0.024002 0 -0.03325 "/>
      <geometry>
        <mesh filename="meshes/Grieel_wheel_mode/driving_Link.STL"/>
      </geometry>
      <material name="">
        <color rgba="0.2 0.2 0.2 1"/>
      </material>
    </visual>
    <collision>
      <origin rpy="0 0 0" xyz="-0.03325 0 0.024002"/>
      <geometry>
        <mesh filename="meshes/Grieel_wheel_mode/driving_Link.STL"/>
      </geometry>
    </collision>
  </link>
  <joint name="RF_wristV" type="revolute">
    <origin rpy="0 0 0" xyz="0.018995 0 0.024002"/>
    <parent link="RF_wristV_Link"/>
    <child link="RF_driving_Link"/>
    <axis xyz="0 1 0"/>
    <limit effort="5" lower="-2.35619449019" upper="1.5708" velocity="5"/>
    <dynamics damping="0.1" friction="0.4"/>
  </joint>
  <link name="RF_wheel_Link">
    <inertial>
      <origin rpy="0 0 0" xyz="0.00222516909085785 0.00371161518941796 0.0864468548098098"/>
      <mass value="0.415840945785028"/>
      <inertia ixx="8.46005758272478E-05" ixy="5.92848495177423E-08" ixz="-1.25700028998783E-06" iyy="6.34434076414387E-05" iyz="-5.56154912625676E-07" izz="9.63386112584046E-05"/>
    </inertial>
    <visual>
      <origin rpy="0 -1.5708 3.14159265358" xyz=" 0.010898 0 -0.079017"/>
      <geometry>
        <mesh filename="meshes/Grieel_wheel_mode/wheel_Link.STL"/>
      </geometry>
      <material name="">
        <color rgba="0.2 0.2 0.2 1"/>
      </material>
    </visual>
    <collision name="RF_wheel_Link_collision">
      <origin rpy="0 0 0" xyz="-0.079017 0 0.010898"/>
      <geometry>
        <mesh filename="meshes/Grieel_wheel_mode/wheel_Link.STL"/>
      </geometry>
    </collision>
    <!-- <collision name="${prefix}_wheel_Link_collision">
      <origin
        xyz="0 -0.118 0"
        rpy="${pi/2} 0 0" />
      <geometry>
        <cylinder length="0.04" radius="0.078"/>
      </geometry>
    </collision> -->
  </link>
  <joint name="RF_driving" type="continuous">
    <origin rpy="0 0 0" xyz="0.013104 0 0.045762"/>
    <parent link="RF_driving_Link"/>
    <child link="RF_wheel_Link"/>
    <axis xyz="-1 0 0"/>
    <dynamics damping="0.1" friction="0.4"/>
  </joint>
  <!-- Gazebo plugin for contact sensor, collision name like that because of parsing errors in the urdf  -->
  <gazebo reference="RF_wheel_Link">
    <sensor name="RF_gripper_bumper_sensor" type="contact">
      <always_on>true</always_on>
      <update_rate>100</update_rate>
      <contact>
        <collision>RF_wheel_Link_collision_collision</collision>
      </contact>
      <plugin filename="libgazebo_ros_bumper.so" name="RF_gripper_bumper">
        <ros>
          <namespace>RF</namespace>
        </ros>
        <frame_name>RF_wheel_link</frame_name>
      </plugin>
    </sensor>
  </gazebo>
  <ros2_control name="LF_ros2_control" type="system">
    <hardware>
      <plugin>gazebo_ros2_control/GazeboSystem</plugin>
    </hardware>
    <joint name="LF_B2C">
      <command_interface name="position">
        <param name="min">-10</param>
        <param name="max">10</param>
      </command_interface>
      <command_interface name="velocity">
        <param name="min">-0.5</param>
        <param name="max">0.5</param>
      </command_interface>
      <command_interface name="effort">
        <param name="min">-10</param>
        <param name="max">10</param>
      </command_interface>
      <state_interface name="position">
        <!-- Set initial joint position -->
        <param name="initial_value"> 0.0 </param>
      </state_interface>
      <state_interface name="velocity"/>
    </joint>
    <joint name="LF_C2F">
      <command_interface name="position">
        <param name="min">-10</param>
        <param name="max">10</param>
      </command_interface>
      <command_interface name="velocity">
        <param name="min">-0.5</param>
        <param name="max">0.5</param>
      </command_interface>
      <command_interface name="effort">
        <param name="min">-10</param>
        <param name="max">10</param>
      </command_interface>
      <state_interface name="position">
        <param name="initial_value"> 0.0 </param>
      </state_interface>
      <state_interface name="velocity"/>
    </joint>
    <joint name="LF_F2T">
      <command_interface name="position">
        <param name="min">-10</param>
        <param name="max">10</param>
      </command_interface>
      <command_interface name="velocity">
        <param name="min">-0.5</param>
        <param name="max">0.5</param>
      </command_interface>
      <command_interface name="effort">
        <param name="min">-10</param>
        <param name="max">10</param>
      </command_interface>
      <state_interface name="position">
        <param name="initial_value"> 1.5707963267948966 </param>
      </state_interface>
      <state_interface name="velocity"/>
    </joint>
    <joint name="LF_T2E">
      <command_interface name="position">
        <param name="min">-10</param>
        <param name="max">10</param>
      </command_interface>
      <command_interface name="velocity">
        <param name="min">-0.5</param>
        <param name="max">0.5</param>
      </command_interface>
      <command_interface name="effort">
        <param name="min">-10</param>
        <param name="max">10</param>
      </command_interface>
      <state_interface name="position">
        <param name="initial_value"> 0.0 </param>
      </state_interface>
      <state_interface name="velocity"/>
    </joint>
    <joint name="LF_wristH">
      <command_interface name="position">
        <param name="min">-10</param>
        <param name="max">10</param>
      </command_interface>
      <command_interface name="velocity">
        <param name="min">-0.5</param>
        <param name="max">0.5</param>
      </command_interface>
      <command_interface name="effort">
        <param name="min">-10</param>
        <param name="max">10</param>
      </command_interface>
      <state_interface name="position">
        <param name="initial_value"> 0.0 </param>
      </state_interface>
      <state_interface name="velocity"/>
    </joint>
    <joint name="LF_wristV">
      <command_interface name="position">
        <param name="min">-10</param>
        <param name="max">10</param>
      </command_interface>
      <command_interface name="velocity">
        <param name="min">-0.5</param>
        <param name="max">0.5</param>
      </command_interface>
      <command_interface name="effort">
        <param name="min">-10</param>
        <param name="max">10</param>
      </command_interface>
      <state_interface name="position">
        <param name="initial_value"> 0.0 </param>
      </state_interface>
      <state_interface name="velocity"/>
    </joint>
    <joint name="LF_driving">
      <command_interface name="position">
        <param name="min">-10</param>
        <param name="max">10</param>
      </command_interface>
      <command_interface name="velocity">
        <param name="min">-0.5</param>
        <param name="max">0.5</param>
      </command_interface>
      <command_interface name="effort">
        <param name="min">-10</param>
        <param name="max">10</param>
      </command_interface>
      <state_interface name="position">
        <param name="initial_value"> 0.0 </param>
      </state_interface>
      <state_interface name="velocity"/>
    </joint>
  </ros2_control>
  <ros2_control name="LH_ros2_control" type="system">
    <hardware>
      <plugin>gazebo_ros2_control/GazeboSystem</plugin>
    </hardware>
    <joint name="LH_B2C">
      <command_interface name="position">
        <param name="min">-10</param>
        <param name="max">10</param>
      </command_interface>
      <command_interface name="velocity">
        <param name="min">-0.5</param>
        <param name="max">0.5</param>
      </command_interface>
      <command_interface name="effort">
        <param name="min">-10</param>
        <param name="max">10</param>
      </command_interface>
      <state_interface name="position">
        <!-- Set initial joint position -->
        <param name="initial_value"> 0.0 </param>
      </state_interface>
      <state_interface name="velocity"/>
    </joint>
    <joint name="LH_C2F">
      <command_interface name="position">
        <param name="min">-10</param>
        <param name="max">10</param>
      </command_interface>
      <command_interface name="velocity">
        <param name="min">-0.5</param>
        <param name="max">0.5</param>
      </command_interface>
      <command_interface name="effort">
        <param name="min">-10</param>
        <param name="max">10</param>
      </command_interface>
      <state_interface name="position">
        <param name="initial_value"> 0.0 </param>
      </state_interface>
      <state_interface name="velocity"/>
    </joint>
    <joint name="LH_F2T">
      <command_interface name="position">
        <param name="min">-10</param>
        <param name="max">10</param>
      </command_interface>
      <command_interface name="velocity">
        <param name="min">-0.5</param>
        <param name="max">0.5</param>
      </command_interface>
      <command_interface name="effort">
        <param name="min">-10</param>
        <param name="max">10</param>
      </command_interface>
      <state_interface name="position">
        <param name="initial_value"> 1.5707963267948966 </param>
      </state_interface>
      <state_interface name="velocity"/>
    </joint>
    <joint name="LH_T2E">
      <command_interface name="position">
        <param name="min">-10</param>
        <param name="max">10</param>
      </command_interface>
      <command_interface name="velocity">
        <param name="min">-0.5</param>
        <param name="max">0.5</param>
      </command_interface>
      <command_interface name="effort">
        <param name="min">-10</param>
        <param name="max">10</param>
      </command_interface>
      <state_interface name="position">
        <param name="initial_value"> 0.0 </param>
      </state_interface>
      <state_interface name="velocity"/>
    </joint>
    <joint name="LH_wristH">
      <command_interface name="position">
        <param name="min">-10</param>
        <param name="max">10</param>
      </command_interface>
      <command_interface name="velocity">
        <param name="min">-0.5</param>
        <param name="max">0.5</param>
      </command_interface>
      <command_interface name="effort">
        <param name="min">-10</param>
        <param name="max">10</param>
      </command_interface>
      <state_interface name="position">
        <param name="initial_value"> 0.0 </param>
      </state_interface>
      <state_interface name="velocity"/>
    </joint>
    <joint name="LH_wristV">
      <command_interface name="position">
        <param name="min">-10</param>
        <param name="max">10</param>
      </command_interface>
      <command_interface name="velocity">
        <param name="min">-0.5</param>
        <param name="max">0.5</param>
      </command_interface>
      <command_interface name="effort">
        <param name="min">-10</param>
        <param name="max">10</param>
      </command_interface>
      <state_interface name="position">
        <param name="initial_value"> 0.0 </param>
      </state_interface>
      <state_interface name="velocity"/>
    </joint>
    <joint name="LH_driving">
      <command_interface name="position">
        <param name="min">-10</param>
        <param name="max">10</param>
      </command_interface>
      <command_interface name="velocity">
        <param name="min">-0.5</param>
        <param name="max">0.5</param>
      </command_interface>
      <command_interface name="effort">
        <param name="min">-10</param>
        <param name="max">10</param>
      </command_interface>
      <state_interface name="position">
        <param name="initial_value"> 0.0 </param>
      </state_interface>
      <state_interface name="velocity"/>
    </joint>
  </ros2_control>
  <ros2_control name="RH_ros2_control" type="system">
    <hardware>
      <plugin>gazebo_ros2_control/GazeboSystem</plugin>
    </hardware>
    <joint name="RH_B2C">
      <command_interface name="position">
        <param name="min">-10</param>
        <param name="max">10</param>
      </command_interface>
      <command_interface name="velocity">
        <param name="min">-0.5</param>
        <param name="max">0.5</param>
      </command_interface>
      <command_interface name="effort">
        <param name="min">-10</param>
        <param name="max">10</param>
      </command_interface>
      <state_interface name="position">
        <!-- Set initial joint position -->
        <param name="initial_value"> 0.0 </param>
      </state_interface>
      <state_interface name="velocity"/>
    </joint>
    <joint name="RH_C2F">
      <command_interface name="position">
        <param name="min">-10</param>
        <param name="max">10</param>
      </command_interface>
      <command_interface name="velocity">
        <param name="min">-0.5</param>
        <param name="max">0.5</param>
      </command_interface>
      <command_interface name="effort">
        <param name="min">-10</param>
        <param name="max">10</param>
      </command_interface>
      <state_interface name="position">
        <param name="initial_value"> 0.0 </param>
      </state_interface>
      <state_interface name="velocity"/>
    </joint>
    <joint name="RH_F2T">
      <command_interface name="position">
        <param name="min">-10</param>
        <param name="max">10</param>
      </command_interface>
      <command_interface name="velocity">
        <param name="min">-0.5</param>
        <param name="max">0.5</param>
      </command_interface>
      <command_interface name="effort">
        <param name="min">-10</param>
        <param name="max">10</param>
      </command_interface>
      <state_interface name="position">
        <param name="initial_value"> 1.5707963267948966 </param>
      </state_interface>
      <state_interface name="velocity"/>
    </joint>
    <joint name="RH_T2E">
      <command_interface name="position">
        <param name="min">-10</param>
        <param name="max">10</param>
      </command_interface>
      <command_interface name="velocity">
        <param name="min">-0.5</param>
        <param name="max">0.5</param>
      </command_interface>
      <command_interface name="effort">
        <param name="min">-10</param>
        <param name="max">10</param>
      </command_interface>
      <state_interface name="position">
        <param name="initial_value"> 0.0 </param>
      </state_interface>
      <state_interface name="velocity"/>
    </joint>
    <joint name="RH_wristH">
      <command_interface name="position">
        <param name="min">-10</param>
        <param name="max">10</param>
      </command_interface>
      <command_interface name="velocity">
        <param name="min">-0.5</param>
        <param name="max">0.5</param>
      </command_interface>
      <command_interface name="effort">
        <param name="min">-10</param>
        <param name="max">10</param>
      </command_interface>
      <state_interface name="position">
        <param name="initial_value"> 0.0 </param>
      </state_interface>
      <state_interface name="velocity"/>
    </joint>
    <joint name="RH_wristV">
      <command_interface name="position">
        <param name="min">-10</param>
        <param name="max">10</param>
      </command_interface>
      <command_interface name="velocity">
        <param name="min">-0.5</param>
        <param name="max">0.5</param>
      </command_interface>
      <command_interface name="effort">
        <param name="min">-10</param>
        <param name="max">10</param>
      </command_interface>
      <state_interface name="position">
        <param name="initial_value"> 0.0 </param>
      </state_interface>
      <state_interface name="velocity"/>
    </joint>
    <joint name="RH_driving">
      <command_interface name="position">
        <param name="min">-10</param>
        <param name="max">10</param>
      </command_interface>
      <command_interface name="velocity">
        <param name="min">-0.5</param>
        <param name="max">0.5</param>
      </command_interface>
      <command_interface name="effort">
        <param name="min">-10</param>
        <param name="max">10</param>
      </command_interface>
      <state_interface name="position">
        <param name="initial_value"> 0.0 </param>
      </state_interface>
      <state_interface name="velocity"/>
    </joint>
  </ros2_control>
  <ros2_control name="RF_ros2_control" type="system">
    <hardware>
      <plugin>gazebo_ros2_control/GazeboSystem</plugin>
    </hardware>
    <joint name="RF_B2C">
      <command_interface name="position">
        <param name="min">-10</param>
        <param name="max">10</param>
      </command_interface>
      <command_interface name="velocity">
        <param name="min">-0.5</param>
        <param name="max">0.5</param>
      </command_interface>
      <command_interface name="effort">
        <param name="min">-10</param>
        <param name="max">10</param>
      </command_interface>
      <state_interface name="position">
        <!-- Set initial joint position -->
        <param name="initial_value"> 0.0 </param>
      </state_interface>
      <state_interface name="velocity"/>
    </joint>
    <joint name="RF_C2F">
      <command_interface name="position">
        <param name="min">-10</param>
        <param name="max">10</param>
      </command_interface>
      <command_interface name="velocity">
        <param name="min">-0.5</param>
        <param name="max">0.5</param>
      </command_interface>
      <command_interface name="effort">
        <param name="min">-10</param>
        <param name="max">10</param>
      </command_interface>
      <state_interface name="position">
        <param name="initial_value"> 0.0 </param>
      </state_interface>
      <state_interface name="velocity"/>
    </joint>
    <joint name="RF_F2T">
      <command_interface name="position">
        <param name="min">-10</param>
        <param name="max">10</param>
      </command_interface>
      <command_interface name="velocity">
        <param name="min">-0.5</param>
        <param name="max">0.5</param>
      </command_interface>
      <command_interface name="effort">
        <param name="min">-10</param>
        <param name="max">10</param>
      </command_interface>
      <state_interface name="position">
        <param name="initial_value"> 1.5707963267948966 </param>
      </state_interface>
      <state_interface name="velocity"/>
    </joint>
    <joint name="RF_T2E">
      <command_interface name="position">
        <param name="min">-10</param>
        <param name="max">10</param>
      </command_interface>
      <command_interface name="velocity">
        <param name="min">-0.5</param>
        <param name="max">0.5</param>
      </command_interface>
      <command_interface name="effort">
        <param name="min">-10</param>
        <param name="max">10</param>
      </command_interface>
      <state_interface name="position">
        <param name="initial_value"> 0.0 </param>
      </state_interface>
      <state_interface name="velocity"/>
    </joint>
    <joint name="RF_wristH">
      <command_interface name="position">
        <param name="min">-10</param>
        <param name="max">10</param>
      </command_interface>
      <command_interface name="velocity">
        <param name="min">-0.5</param>
        <param name="max">0.5</param>
      </command_interface>
      <command_interface name="effort">
        <param name="min">-10</param>
        <param name="max">10</param>
      </command_interface>
      <state_interface name="position">
        <param name="initial_value"> 0.0 </param>
      </state_interface>
      <state_interface name="velocity"/>
    </joint>
    <joint name="RF_wristV">
      <command_interface name="position">
        <param name="min">-10</param>
        <param name="max">10</param>
      </command_interface>
      <command_interface name="velocity">
        <param name="min">-0.5</param>
        <param name="max">0.5</param>
      </command_interface>
      <command_interface name="effort">
        <param name="min">-10</param>
        <param name="max">10</param>
      </command_interface>
      <state_interface name="position">
        <param name="initial_value"> 0.0 </param>
      </state_interface>
      <state_interface name="velocity"/>
    </joint>
    <joint name="RF_driving">
      <command_interface name="position">
        <param name="min">-10</param>
        <param name="max">10</param>
      </command_interface>
      <command_interface name="velocity">
        <param name="min">-0.5</param>
        <param name="max">0.5</param>
      </command_interface>
      <command_interface name="effort">
        <param name="min">-10</param>
        <param name="max">10</param>
      </command_interface>
      <state_interface name="position">
        <param name="initial_value"> 0.0 </param>
      </state_interface>
      <state_interface name="velocity"/>
    </joint>
  </ros2_control>
  <!-- Gazebo plugin for joint state publisher  -->
  <gazebo>
    <plugin filename="libgazebo_ros_joint_state_publisher.so" name="LF_joint_state">
      <ros>
        <namespace>LF</namespace>
        <remapping>~/out:=joint_states</remapping>
      </ros>
      <update_rate>30</update_rate>
      <!-- <joint_name>${prefix}_E2grieel</joint_name> -->
      <joint_name>LF_B2C</joint_name>
      <joint_name>LF_C2F</joint_name>
      <joint_name>LF_F2T</joint_name>
      <joint_name>LF_T2E</joint_name>
      <joint_name>LF_wristH</joint_name>
      <joint_name>LF_wristV</joint_name>
      <joint_name>LF_driving</joint_name>
    </plugin>
  </gazebo>
  <!-- Gazebo plugin for joint state publisher  -->
  <gazebo>
    <plugin filename="libgazebo_ros_joint_state_publisher.so" name="LH_joint_state">
      <ros>
        <namespace>LH</namespace>
        <remapping>~/out:=joint_states</remapping>
      </ros>
      <update_rate>30</update_rate>
      <!-- <joint_name>${prefix}_E2grieel</joint_name> -->
      <joint_name>LH_B2C</joint_name>
      <joint_name>LH_C2F</joint_name>
      <joint_name>LH_F2T</joint_name>
      <joint_name>LH_T2E</joint_name>
      <joint_name>LH_wristH</joint_name>
      <joint_name>LH_wristV</joint_name>
      <joint_name>LH_driving</joint_name>
    </plugin>
  </gazebo>
  <!-- Gazebo plugin for joint state publisher  -->
  <gazebo>
    <plugin filename="libgazebo_ros_joint_state_publisher.so" name="RH_joint_state">
      <ros>
        <namespace>RH</namespace>
        <remapping>~/out:=joint_states</remapping>
      </ros>
      <update_rate>30</update_rate>
      <!-- <joint_name>${prefix}_E2grieel</joint_name> -->
      <joint_name>RH_B2C</joint_name>
      <joint_name>RH_C2F</joint_name>
      <joint_name>RH_F2T</joint_name>
      <joint_name>RH_T2E</joint_name>
      <joint_name>RH_wristH</joint_name>
      <joint_name>RH_wristV</joint_name>
      <joint_name>RH_driving</joint_name>
    </plugin>
  </gazebo>
  <!-- Gazebo plugin for joint state publisher  -->
  <gazebo>
    <plugin filename="libgazebo_ros_joint_state_publisher.so" name="RF_joint_state">
      <ros>
        <namespace>RF</namespace>
        <remapping>~/out:=joint_states</remapping>
      </ros>
      <update_rate>30</update_rate>
      <!-- <joint_name>${prefix}_E2grieel</joint_name> -->
      <joint_name>RF_B2C</joint_name>
      <joint_name>RF_C2F</joint_name>
      <joint_name>RF_F2T</joint_name>
      <joint_name>RF_T2E</joint_name>
      <joint_name>RF_wristH</joint_name>
      <joint_name>RF_wristV</joint_name>
      <joint_name>RF_driving</joint_name>
    </plugin>
  </gazebo>
  <gazebo reference="LF_wheel_Link">
    <mu1>1.5</mu1>
    <mu2>2.5</mu2>
    <kp>1000000</kp>
    <kd>1.0</kd>
  </gazebo>
  <gazebo reference="LF_femur">
    <material>Gazebo/Black</material>
    <visual>
      <material>
        <ambient>0.2 0.2 0.2 1</ambient>
        <diffuse>0.2 0.2 0.2 1</diffuse>
        <specular>0.01 0.01 0.01 1</specular>
        <emissive>0.01 0.01 0.01 1</emissive>
      </material>
    </visual>
  </gazebo>
  <gazebo reference="LF_tibia">
    <material>Gazebo/Black</material>
    <visual>
      <material>
        <ambient>0.2 0.2 0.2 1</ambient>
        <diffuse>0.2 0.2 0.2 1</diffuse>
        <specular>0.01 0.01 0.01 1</specular>
        <emissive>0.01 0.01 0.01 1</emissive>
      </material>
    </visual>
  </gazebo>
  <gazebo reference="LF_limb_end">
    <material>Gazebo/Black</material>
    <visual>
      <material>
        <ambient>0.2 0.2 0.2 1</ambient>
        <diffuse>0.2 0.2 0.2 1</diffuse>
        <specular>0.01 0.01 0.01 1</specular>
        <emissive>0.01 0.01 0.01 1</emissive>
      </material>
    </visual>
  </gazebo>
  <gazebo reference="LF_limb_root">
    <material>Gazebo/Black</material>
    <visual>
      <material>
        <ambient>0.2 0.2 0.2 1</ambient>
        <diffuse>0.2 0.2 0.2 1</diffuse>
        <specular>0.01 0.01 0.01 1</specular>
        <emissive>0.01 0.01 0.01 1</emissive>
      </material>
    </visual>
  </gazebo>
  <gazebo reference="LF_coxa">
    <material>Gazebo/Black</material>
    <visual>
      <material>
        <ambient>0.2 0.2 0.2 1</ambient>
        <diffuse>0.2 0.2 0.2 1</diffuse>
        <specular>0.01 0.01 0.01 1</specular>
        <emissive>0.01 0.01 0.01 1</emissive>
      </material>
    </visual>
  </gazebo>
  <gazebo reference="LF_wristH_Link">
    <material>Gazebo/Black</material>
    <visual>
      <material>
        <ambient>0.2 0.2 0.2 1</ambient>
        <diffuse>0.2 0.2 0.2 1</diffuse>
        <specular>0.01 0.01 0.01 1</specular>
        <emissive>0.01 0.01 0.01 1</emissive>
      </material>
    </visual>
  </gazebo>
  <gazebo reference="LF_wristV_Link">
    <material>Gazebo/Black</material>
    <visual>
      <material>
        <ambient>0.2 0.2 0.2 1</ambient>
        <diffuse>0.2 0.2 0.2 1</diffuse>
        <specular>0.01 0.01 0.01 1</specular>
        <emissive>0.01 0.01 0.01 1</emissive>
      </material>
    </visual>
  </gazebo>
  <gazebo reference="LF_driving_Link">
    <material>Gazebo/Black</material>
    <visual>
      <material>
        <ambient>0.2 0.2 0.2 1</ambient>
        <diffuse>0.2 0.2 0.2 1</diffuse>
        <specular>0.01 0.01 0.01 1</specular>
        <emissive>0.01 0.01 0.01 1</emissive>
      </material>
    </visual>
  </gazebo>
  <gazebo reference="LF_gripper_Link">
    <material>Gazebo/Black</material>
    <visual>
      <material>
        <ambient>0.2 0.2 0.2 1</ambient>
        <diffuse>0.2 0.2 0.2 1</diffuse>
        <specular>0.01 0.01 0.01 1</specular>
        <emissive>0.01 0.01 0.01 1</emissive>
      </material>
    </visual>
  </gazebo>
  <gazebo reference="LF_wheel_Link">
    <material>Gazebo/Black</material>
    <visual>
      <material>
        <ambient>0.2 0.2 0.2 1</ambient>
        <diffuse>0.2 0.2 0.2 1</diffuse>
        <specular>0.01 0.01 0.01 1</specular>
        <emissive>0.01 0.01 0.01 1</emissive>
      </material>
    </visual>
  </gazebo>
  <gazebo reference="LH_wheel_Link">
    <mu1>1.5</mu1>
    <mu2>2.5</mu2>
    <kp>1000000</kp>
    <kd>1.0</kd>
  </gazebo>
  <gazebo reference="LH_femur">
    <material>Gazebo/Black</material>
    <visual>
      <material>
        <ambient>0.2 0.2 0.2 1</ambient>
        <diffuse>0.2 0.2 0.2 1</diffuse>
        <specular>0.01 0.01 0.01 1</specular>
        <emissive>0.01 0.01 0.01 1</emissive>
      </material>
    </visual>
  </gazebo>
  <gazebo reference="LH_tibia">
    <material>Gazebo/Black</material>
    <visual>
      <material>
        <ambient>0.2 0.2 0.2 1</ambient>
        <diffuse>0.2 0.2 0.2 1</diffuse>
        <specular>0.01 0.01 0.01 1</specular>
        <emissive>0.01 0.01 0.01 1</emissive>
      </material>
    </visual>
  </gazebo>
  <gazebo reference="LH_limb_end">
    <material>Gazebo/Black</material>
    <visual>
      <material>
        <ambient>0.2 0.2 0.2 1</ambient>
        <diffuse>0.2 0.2 0.2 1</diffuse>
        <specular>0.01 0.01 0.01 1</specular>
        <emissive>0.01 0.01 0.01 1</emissive>
      </material>
    </visual>
  </gazebo>
  <gazebo reference="LH_limb_root">
    <material>Gazebo/Black</material>
    <visual>
      <material>
        <ambient>0.2 0.2 0.2 1</ambient>
        <diffuse>0.2 0.2 0.2 1</diffuse>
        <specular>0.01 0.01 0.01 1</specular>
        <emissive>0.01 0.01 0.01 1</emissive>
      </material>
    </visual>
  </gazebo>
  <gazebo reference="LH_coxa">
    <material>Gazebo/Black</material>
    <visual>
      <material>
        <ambient>0.2 0.2 0.2 1</ambient>
        <diffuse>0.2 0.2 0.2 1</diffuse>
        <specular>0.01 0.01 0.01 1</specular>
        <emissive>0.01 0.01 0.01 1</emissive>
      </material>
    </visual>
  </gazebo>
  <gazebo reference="LH_wristH_Link">
    <material>Gazebo/Black</material>
    <visual>
      <material>
        <ambient>0.2 0.2 0.2 1</ambient>
        <diffuse>0.2 0.2 0.2 1</diffuse>
        <specular>0.01 0.01 0.01 1</specular>
        <emissive>0.01 0.01 0.01 1</emissive>
      </material>
    </visual>
  </gazebo>
  <gazebo reference="LH_wristV_Link">
    <material>Gazebo/Black</material>
    <visual>
      <material>
        <ambient>0.2 0.2 0.2 1</ambient>
        <diffuse>0.2 0.2 0.2 1</diffuse>
        <specular>0.01 0.01 0.01 1</specular>
        <emissive>0.01 0.01 0.01 1</emissive>
      </material>
    </visual>
  </gazebo>
  <gazebo reference="LH_driving_Link">
    <material>Gazebo/Black</material>
    <visual>
      <material>
        <ambient>0.2 0.2 0.2 1</ambient>
        <diffuse>0.2 0.2 0.2 1</diffuse>
        <specular>0.01 0.01 0.01 1</specular>
        <emissive>0.01 0.01 0.01 1</emissive>
      </material>
    </visual>
  </gazebo>
  <gazebo reference="LH_gripper_Link">
    <material>Gazebo/Black</material>
    <visual>
      <material>
        <ambient>0.2 0.2 0.2 1</ambient>
        <diffuse>0.2 0.2 0.2 1</diffuse>
        <specular>0.01 0.01 0.01 1</specular>
        <emissive>0.01 0.01 0.01 1</emissive>
      </material>
    </visual>
  </gazebo>
  <gazebo reference="LH_wheel_Link">
    <material>Gazebo/Black</material>
    <visual>
      <material>
        <ambient>0.2 0.2 0.2 1</ambient>
        <diffuse>0.2 0.2 0.2 1</diffuse>
        <specular>0.01 0.01 0.01 1</specular>
        <emissive>0.01 0.01 0.01 1</emissive>
      </material>
    </visual>
  </gazebo>
  <gazebo reference="RH_wheel_Link">
    <mu1>1.5</mu1>
    <mu2>2.5</mu2>
    <kp>1000000</kp>
    <kd>1.0</kd>
  </gazebo>
  <gazebo reference="RH_femur">
    <material>Gazebo/Black</material>
    <visual>
      <material>
        <ambient>0.2 0.2 0.2 1</ambient>
        <diffuse>0.2 0.2 0.2 1</diffuse>
        <specular>0.01 0.01 0.01 1</specular>
        <emissive>0.01 0.01 0.01 1</emissive>
      </material>
    </visual>
  </gazebo>
  <gazebo reference="RH_tibia">
    <material>Gazebo/Black</material>
    <visual>
      <material>
        <ambient>0.2 0.2 0.2 1</ambient>
        <diffuse>0.2 0.2 0.2 1</diffuse>
        <specular>0.01 0.01 0.01 1</specular>
        <emissive>0.01 0.01 0.01 1</emissive>
      </material>
    </visual>
  </gazebo>
  <gazebo reference="RH_limb_end">
    <material>Gazebo/Black</material>
    <visual>
      <material>
        <ambient>0.2 0.2 0.2 1</ambient>
        <diffuse>0.2 0.2 0.2 1</diffuse>
        <specular>0.01 0.01 0.01 1</specular>
        <emissive>0.01 0.01 0.01 1</emissive>
      </material>
    </visual>
  </gazebo>
  <gazebo reference="RH_limb_root">
    <material>Gazebo/Black</material>
    <visual>
      <material>
        <ambient>0.2 0.2 0.2 1</ambient>
        <diffuse>0.2 0.2 0.2 1</diffuse>
        <specular>0.01 0.01 0.01 1</specular>
        <emissive>0.01 0.01 0.01 1</emissive>
      </material>
    </visual>
  </gazebo>
  <gazebo reference="RH_coxa">
    <material>Gazebo/Black</material>
    <visual>
      <material>
        <ambient>0.2 0.2 0.2 1</ambient>
        <diffuse>0.2 0.2 0.2 1</diffuse>
        <specular>0.01 0.01 0.01 1</specular>
        <emissive>0.01 0.01 0.01 1</emissive>
      </material>
    </visual>
  </gazebo>
  <gazebo reference="RH_wristH_Link">
    <material>Gazebo/Black</material>
    <visual>
      <material>
        <ambient>0.2 0.2 0.2 1</ambient>
        <diffuse>0.2 0.2 0.2 1</diffuse>
        <specular>0.01 0.01 0.01 1</specular>
        <emissive>0.01 0.01 0.01 1</emissive>
      </material>
    </visual>
  </gazebo>
  <gazebo reference="RH_wristV_Link">
    <material>Gazebo/Black</material>
    <visual>
      <material>
        <ambient>0.2 0.2 0.2 1</ambient>
        <diffuse>0.2 0.2 0.2 1</diffuse>
        <specular>0.01 0.01 0.01 1</specular>
        <emissive>0.01 0.01 0.01 1</emissive>
      </material>
    </visual>
  </gazebo>
  <gazebo reference="RH_driving_Link">
    <material>Gazebo/Black</material>
    <visual>
      <material>
        <ambient>0.2 0.2 0.2 1</ambient>
        <diffuse>0.2 0.2 0.2 1</diffuse>
        <specular>0.01 0.01 0.01 1</specular>
        <emissive>0.01 0.01 0.01 1</emissive>
      </material>
    </visual>
  </gazebo>
  <gazebo reference="RH_gripper_Link">
    <material>Gazebo/Black</material>
    <visual>
      <material>
        <ambient>0.2 0.2 0.2 1</ambient>
        <diffuse>0.2 0.2 0.2 1</diffuse>
        <specular>0.01 0.01 0.01 1</specular>
        <emissive>0.01 0.01 0.01 1</emissive>
      </material>
    </visual>
  </gazebo>
  <gazebo reference="RH_wheel_Link">
    <material>Gazebo/Black</material>
    <visual>
      <material>
        <ambient>0.2 0.2 0.2 1</ambient>
        <diffuse>0.2 0.2 0.2 1</diffuse>
        <specular>0.01 0.01 0.01 1</specular>
        <emissive>0.01 0.01 0.01 1</emissive>
      </material>
    </visual>
  </gazebo>
  <gazebo reference="RF_wheel_Link">
    <mu1>1.5</mu1>
    <mu2>2.5</mu2>
    <kp>1000000</kp>
    <kd>1.0</kd>
  </gazebo>
  <gazebo reference="RF_femur">
    <material>Gazebo/Black</material>
    <visual>
      <material>
        <ambient>0.2 0.2 0.2 1</ambient>
        <diffuse>0.2 0.2 0.2 1</diffuse>
        <specular>0.01 0.01 0.01 1</specular>
        <emissive>0.01 0.01 0.01 1</emissive>
      </material>
    </visual>
  </gazebo>
  <gazebo reference="RF_tibia">
    <material>Gazebo/Black</material>
    <visual>
      <material>
        <ambient>0.2 0.2 0.2 1</ambient>
        <diffuse>0.2 0.2 0.2 1</diffuse>
        <specular>0.01 0.01 0.01 1</specular>
        <emissive>0.01 0.01 0.01 1</emissive>
      </material>
    </visual>
  </gazebo>
  <gazebo reference="RF_limb_end">
    <material>Gazebo/Black</material>
    <visual>
      <material>
        <ambient>0.2 0.2 0.2 1</ambient>
        <diffuse>0.2 0.2 0.2 1</diffuse>
        <specular>0.01 0.01 0.01 1</specular>
        <emissive>0.01 0.01 0.01 1</emissive>
      </material>
    </visual>
  </gazebo>
  <gazebo reference="RF_limb_root">
    <material>Gazebo/Black</material>
    <visual>
      <material>
        <ambient>0.2 0.2 0.2 1</ambient>
        <diffuse>0.2 0.2 0.2 1</diffuse>
        <specular>0.01 0.01 0.01 1</specular>
        <emissive>0.01 0.01 0.01 1</emissive>
      </material>
    </visual>
  </gazebo>
  <gazebo reference="RF_coxa">
    <material>Gazebo/Black</material>
    <visual>
      <material>
        <ambient>0.2 0.2 0.2 1</ambient>
        <diffuse>0.2 0.2 0.2 1</diffuse>
        <specular>0.01 0.01 0.01 1</specular>
        <emissive>0.01 0.01 0.01 1</emissive>
      </material>
    </visual>
  </gazebo>
  <gazebo reference="RF_wristH_Link">
    <material>Gazebo/Black</material>
    <visual>
      <material>
        <ambient>0.2 0.2 0.2 1</ambient>
        <diffuse>0.2 0.2 0.2 1</diffuse>
        <specular>0.01 0.01 0.01 1</specular>
        <emissive>0.01 0.01 0.01 1</emissive>
      </material>
    </visual>
  </gazebo>
  <gazebo reference="RF_wristV_Link">
    <material>Gazebo/Black</material>
    <visual>
      <material>
        <ambient>0.2 0.2 0.2 1</ambient>
        <diffuse>0.2 0.2 0.2 1</diffuse>
        <specular>0.01 0.01 0.01 1</specular>
        <emissive>0.01 0.01 0.01 1</emissive>
      </material>
    </visual>
  </gazebo>
  <gazebo reference="RF_driving_Link">
    <material>Gazebo/Black</material>
    <visual>
      <material>
        <ambient>0.2 0.2 0.2 1</ambient>
        <diffuse>0.2 0.2 0.2 1</diffuse>
        <specular>0.01 0.01 0.01 1</specular>
        <emissive>0.01 0.01 0.01 1</emissive>
      </material>
    </visual>
  </gazebo>
  <gazebo reference="RF_gripper_Link">
    <material>Gazebo/Black</material>
    <visual>
      <material>
        <ambient>0.2 0.2 0.2 1</ambient>
        <diffuse>0.2 0.2 0.2 1</diffuse>
        <specular>0.01 0.01 0.01 1</specular>
        <emissive>0.01 0.01 0.01 1</emissive>
      </material>
    </visual>
  </gazebo>
  <gazebo reference="RF_wheel_Link">
    <material>Gazebo/Black</material>
    <visual>
      <material>
        <ambient>0.2 0.2 0.2 1</ambient>
        <diffuse>0.2 0.2 0.2 1</diffuse>
        <specular>0.01 0.01 0.01 1</specular>
        <emissive>0.01 0.01 0.01 1</emissive>
      </material>
    </visual>
  </gazebo>
</robot>
